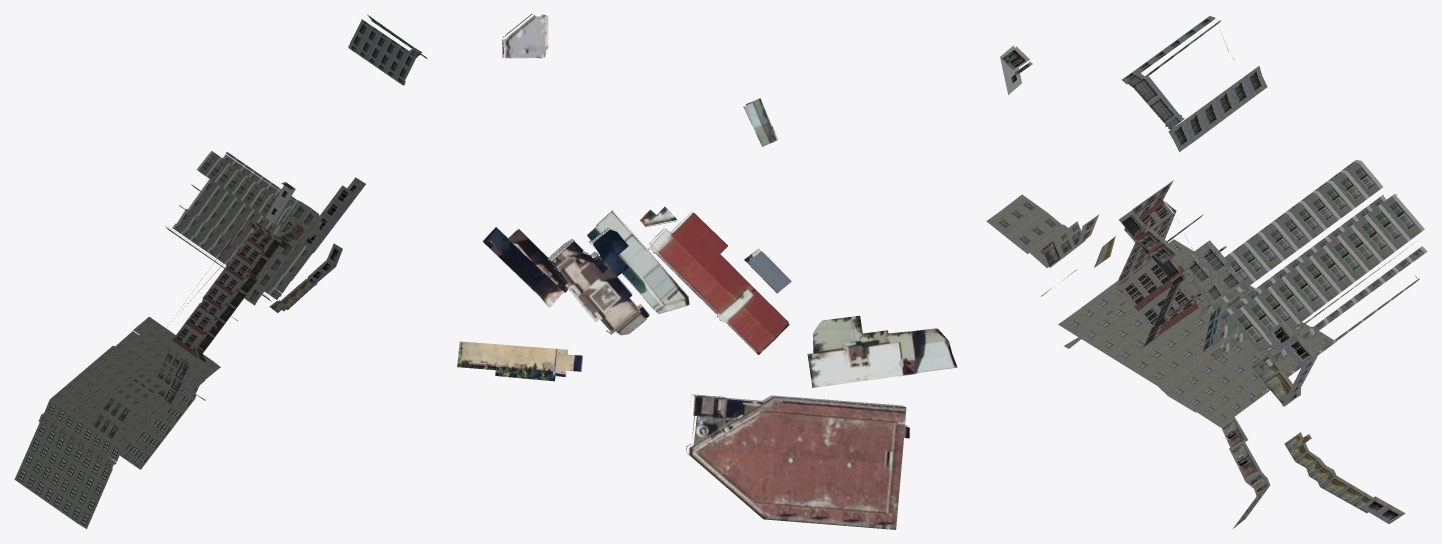
Rendered from tile_LOD4_r15_c1.glb.
3 views of the same model, side by side, from view 1: azimuth 30°, elevation 25°; view 2: azimuth 150°, elevation 25°; view 3: azimuth 270°, elevation 25° (orthographic). The views are drawn at different scales.
Bounding box in the file's own units: 135 × 139 × 80.
Materials: 45 (45 with a texture image).
